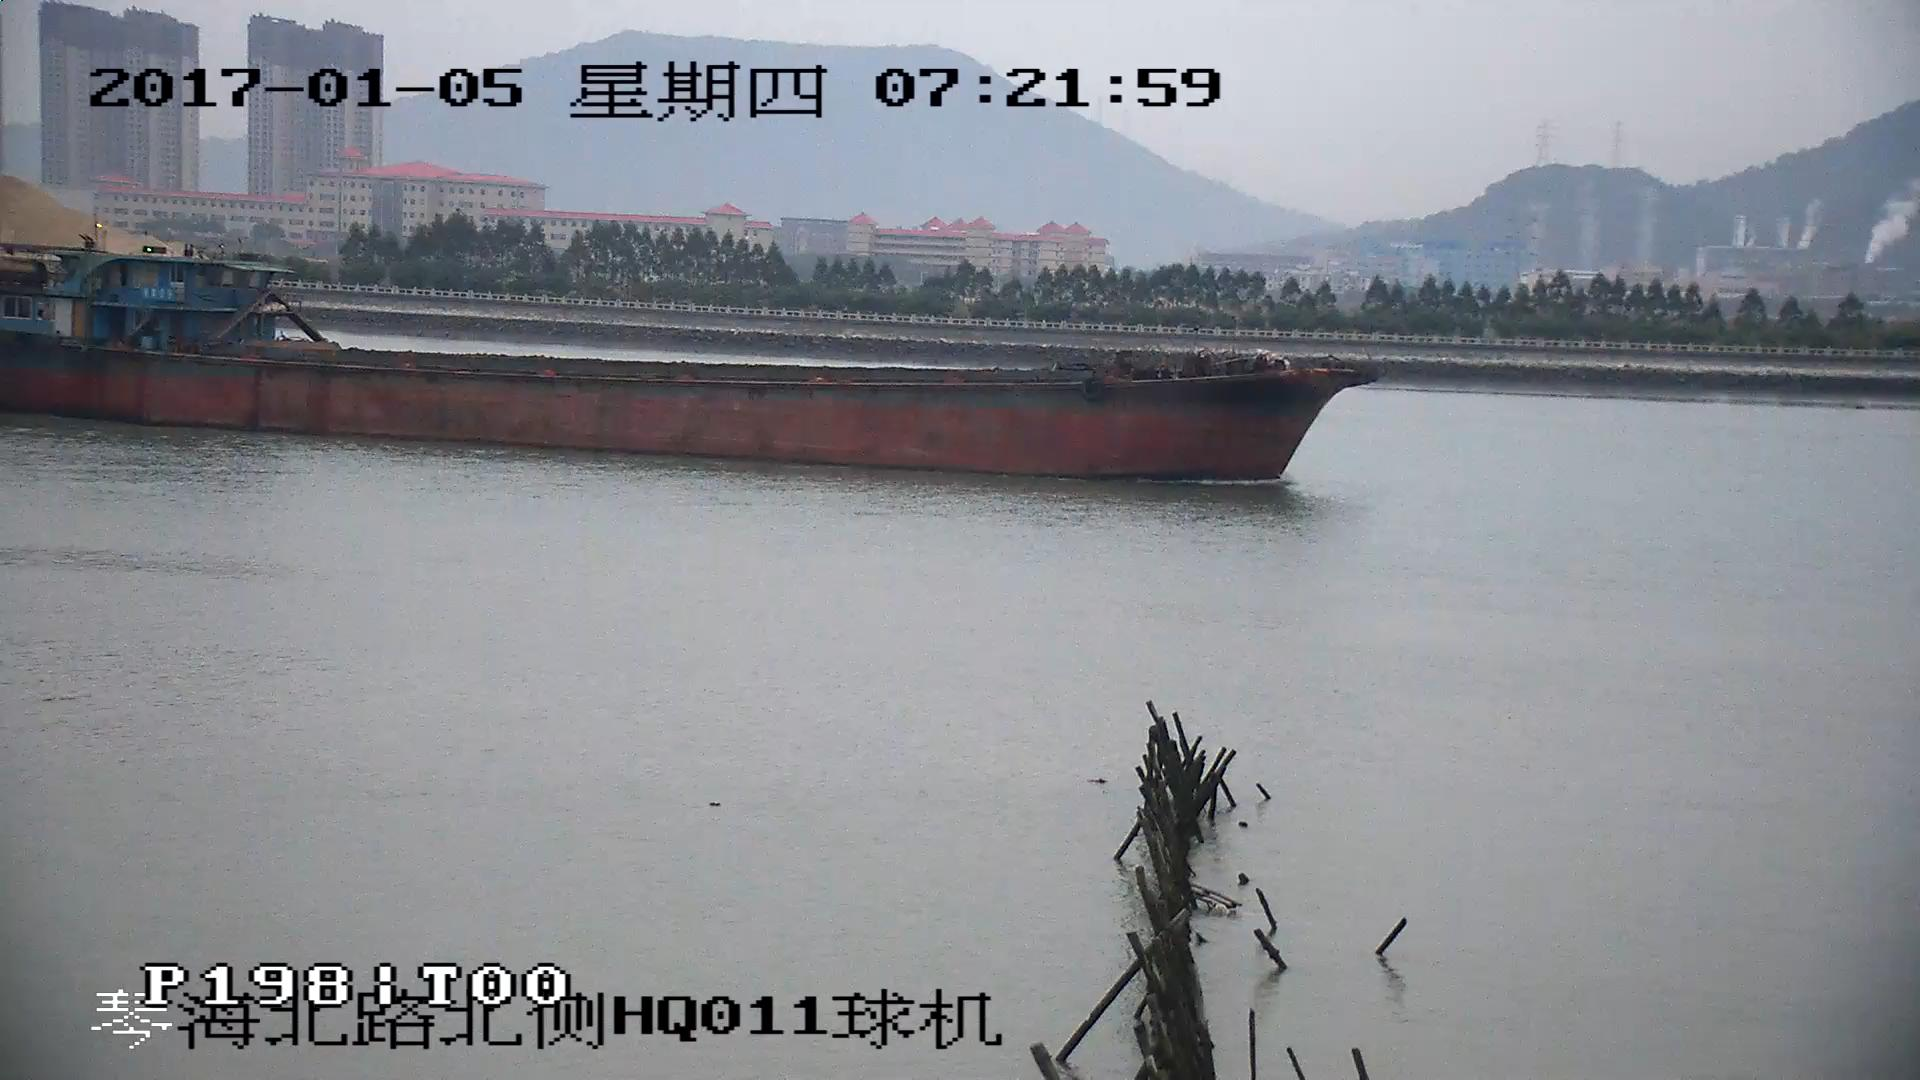bulk cargo carrier: (1, 246, 1381, 479)
